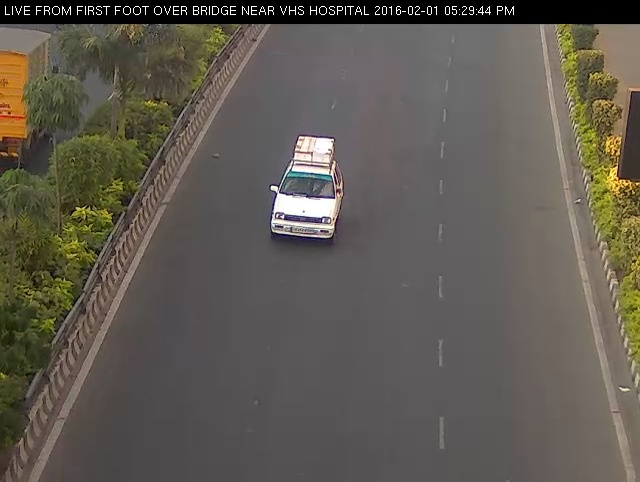Car: (265, 129, 347, 254)
